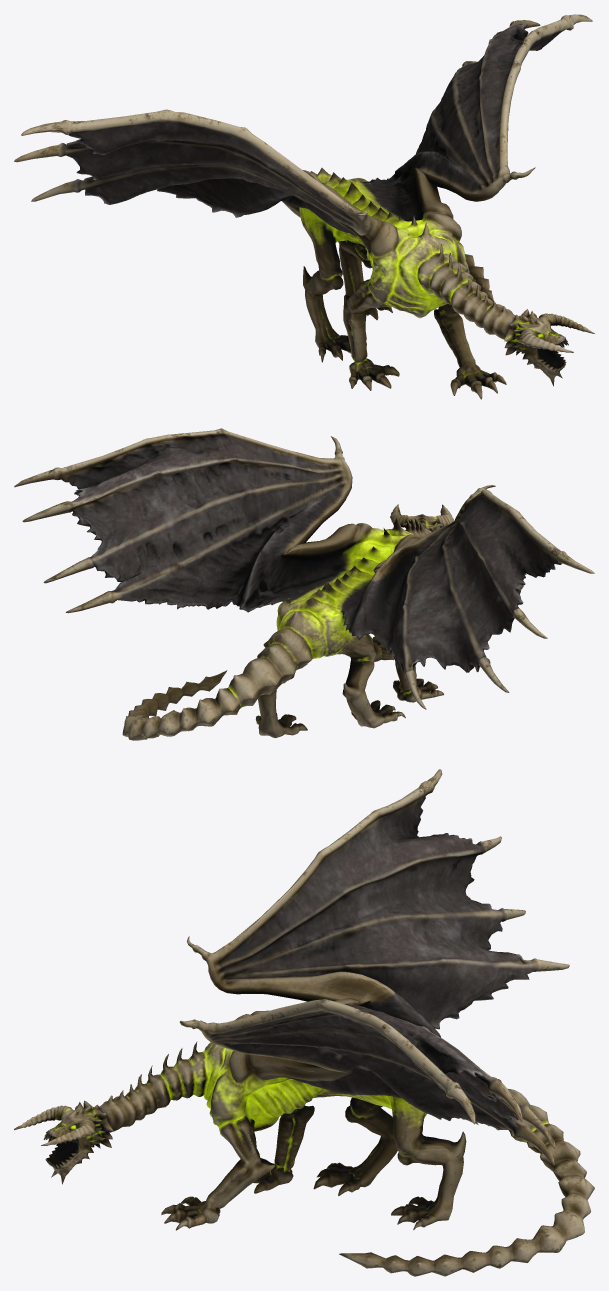
Rendered from MZ4250 - DracolichBlack.glb.
3 renders of one model, top to bottom at view 1: azimuth 30°, elevation 25°; view 2: azimuth 150°, elevation 25°; view 3: azimuth 270°, elevation 25°, orthographic. The views are drawn at different scales.
Parts seen in each view (by area): view 1: BlackDracolich.001; view 2: BlackDracolich.001; view 3: BlackDracolich.001.
Part boxes in pixels (x1=…): BlackDracolich.001: x1=14, y1=14, x2=594, y2=399; BlackDracolich.001: x1=14, y1=428, x2=594, y2=740; BlackDracolich.001: x1=14, y1=769, x2=594, y2=1276.
Bounding box in the file's own units: 253 × 111 × 201.
Materials: 1 (1 with a texture image).
